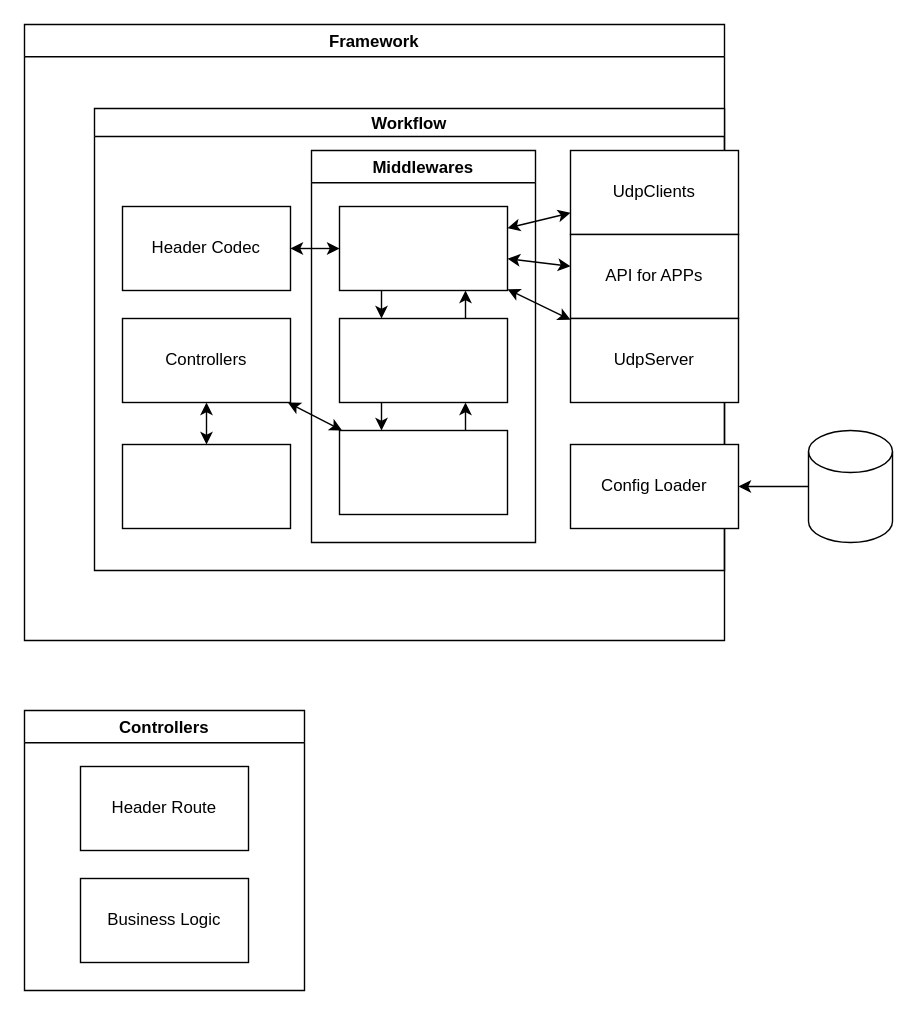
This 917x1015 diagram has some shape labels left out. Here are the shapes that lost their labels. From the top down, the centre of each, then its label:
the point at 422,247: Codec
the point at 422,359: Custom
the point at 205,485: Services
the point at 422,471: MapControllers
the point at 849,485: Config
